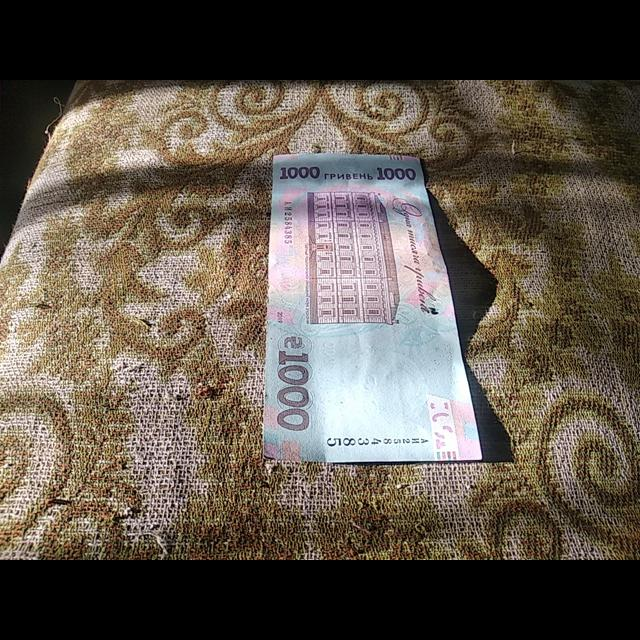1000uah: (263, 155, 481, 459)
